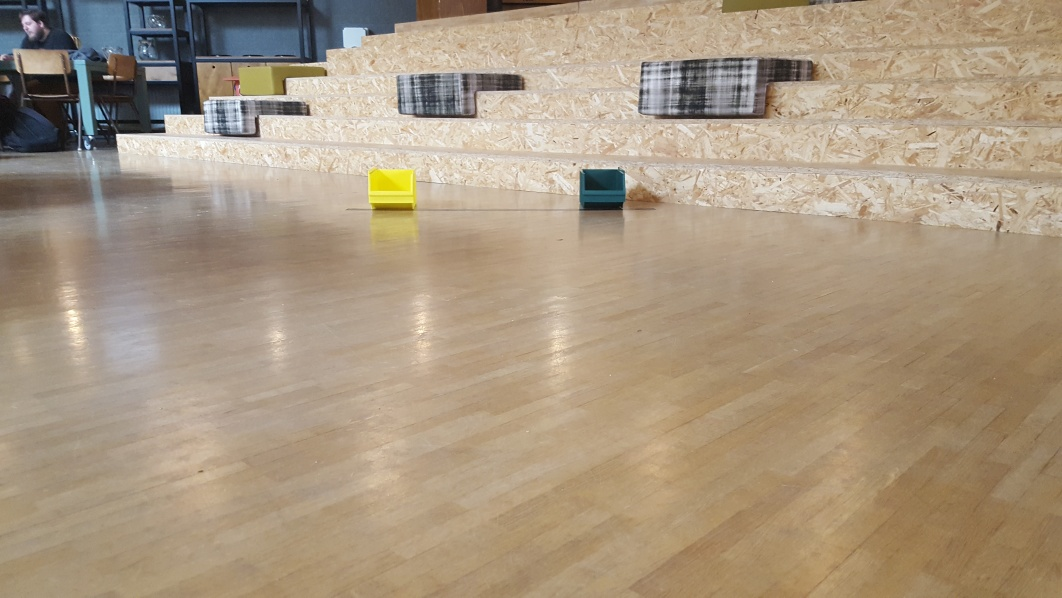tray: (365, 165, 418, 212), (578, 163, 628, 210)
